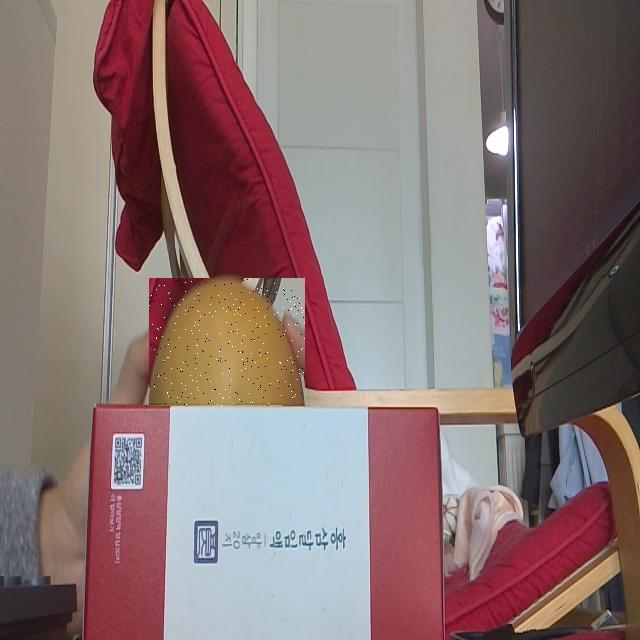pear: (149, 278, 305, 406)
